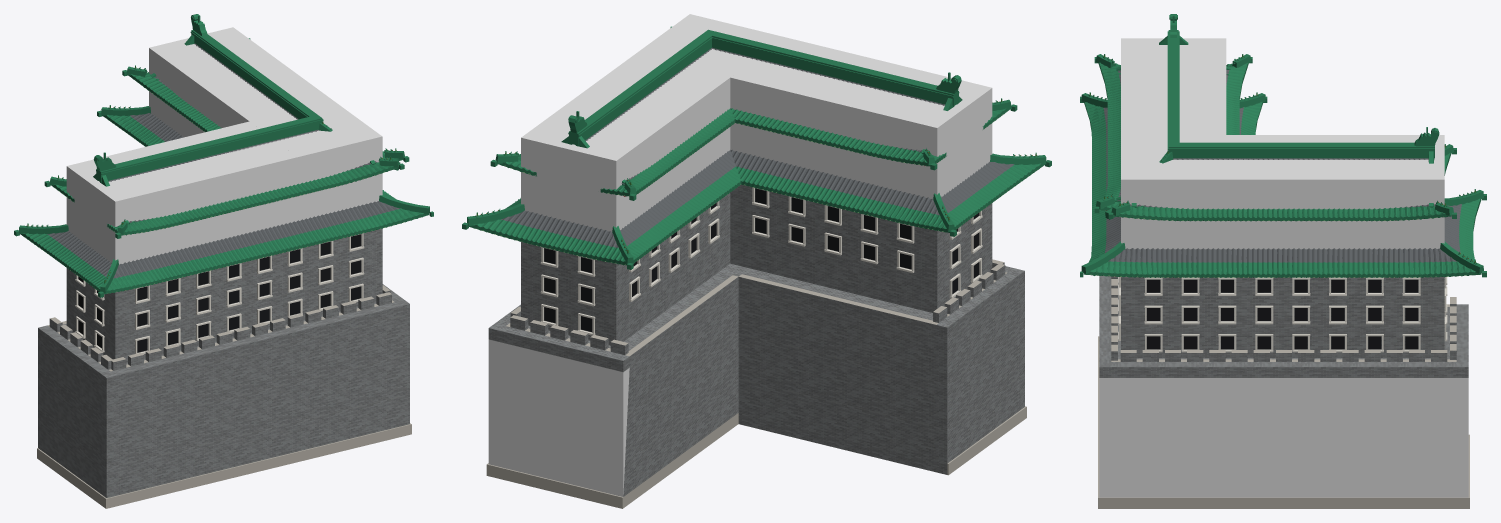
Rendered from jiaolou.glb.
3 views of the same model, side by side, from view 1: azimuth 30°, elevation 25°; view 2: azimuth 150°, elevation 25°; view 3: azimuth 270°, elevation 25° (orthographic). The views are drawn at different scales.
Visible parts, largest first — view 1: Massing, CornerTower, COL_wingS, COL_wingE; view 2: Massing, CornerTower, COL_wingE, COL_wingS, COL_platform; view 3: CornerTower, COL_wingE, COL_platform, Massing, COL_platform.001, COL_wingS.
Boxes of the visible parts, x1=… form: Massing: x1=23, y1=30, x2=423, y2=497; CornerTower: x1=14, y1=14, x2=433, y2=508; COL_wingS: x1=66, y1=121, x2=298, y2=264; COL_wingE: x1=149, y1=27, x2=382, y2=220; Massing: x1=474, y1=29, x2=1039, y2=474; CornerTower: x1=462, y1=26, x2=1051, y2=508; COL_wingE: x1=521, y1=14, x2=784, y2=231; COL_wingS: x1=730, y1=37, x2=992, y2=198; COL_platform: x1=488, y1=339, x2=629, y2=496; CornerTower: x1=1080, y1=14, x2=1486, y2=508; COL_wingE: x1=1121, y1=135, x2=1444, y2=249; COL_platform: x1=1248, y1=378, x2=1468, y2=497; Massing: x1=1085, y1=30, x2=1479, y2=377; COL_platform.001: x1=1099, y1=378, x2=1247, y2=497; COL_wingS: x1=1121, y1=38, x2=1226, y2=134.
Bounding box in the file's own units: 34.83 × 32.15 × 33.93.
11 materials, 4 textured.
